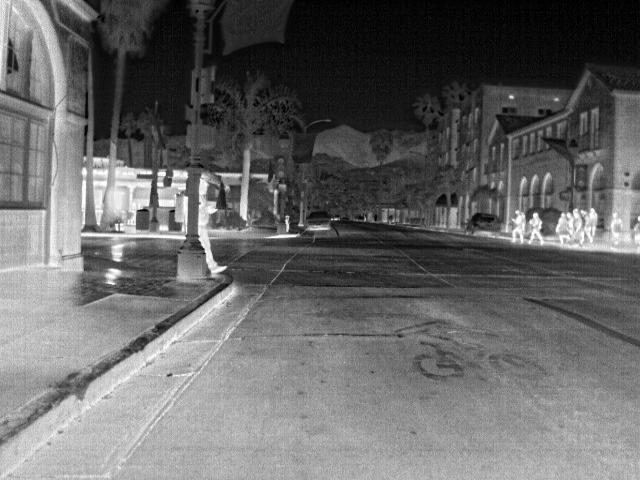car: (468, 212, 506, 237), (304, 208, 333, 232)
person: (198, 177, 230, 274), (525, 211, 547, 242), (578, 209, 596, 243), (508, 208, 524, 242), (610, 211, 625, 245), (554, 212, 568, 243)
